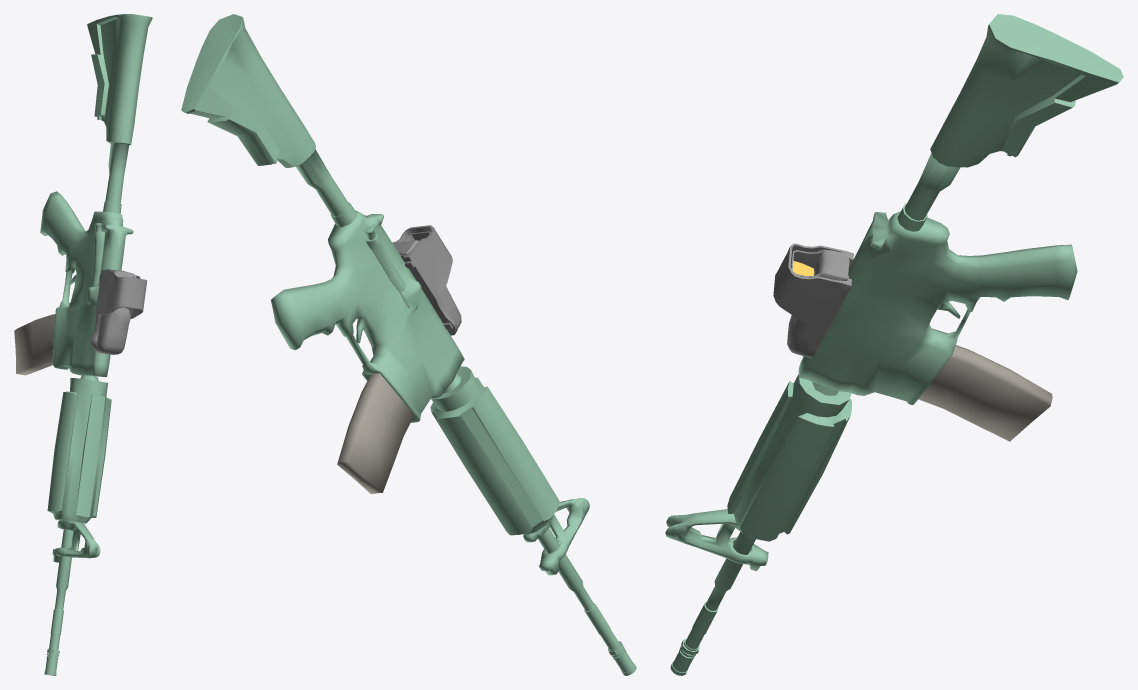
Rendered from AssaultRifle.FBX.
3 renders of one model, left to right at view 1: azimuth 30°, elevation 25°; view 2: azimuth 150°, elevation 25°; view 3: azimuth 270°, elevation 25°, orthographic. The views are drawn at different scales.
Parts seen in each view (by area): view 1: AssaultRifle, AssaultRifle_Sight, AssaultRifle_Magazine; view 2: AssaultRifle, AssaultRifle_Magazine, AssaultRifle_Sight; view 3: AssaultRifle, AssaultRifle_Magazine, AssaultRifle_Sight.
Part boxes in pixels (x1,y1,x2,y2): AssaultRifle: [40, 14, 152, 675]; AssaultRifle_Sight: [91, 269, 147, 354]; AssaultRifle_Magazine: [14, 314, 55, 375]; AssaultRifle: [181, 14, 636, 675]; AssaultRifle_Magazine: [337, 373, 413, 494]; AssaultRifle_Sight: [392, 225, 461, 335]; AssaultRifle: [665, 14, 1123, 675]; AssaultRifle_Magazine: [918, 345, 1052, 441]; AssaultRifle_Sight: [773, 243, 853, 358].
Size of the model in its own units: 19.15 by 45.56 by 23.75.
